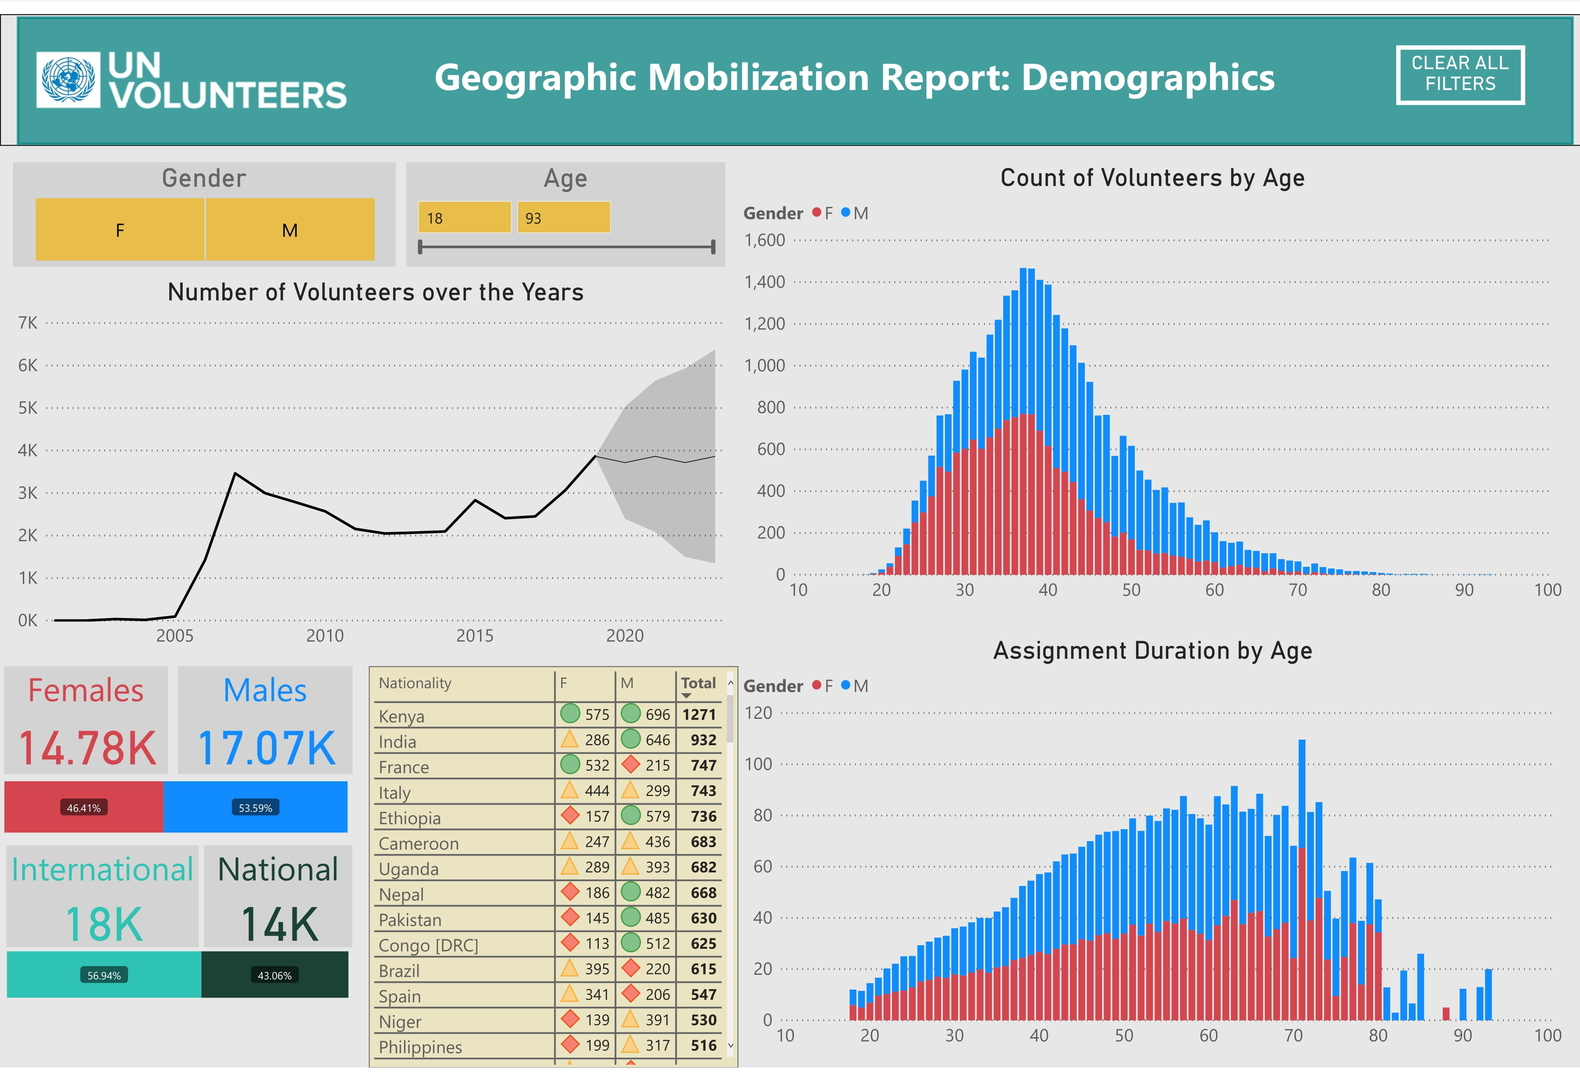

The dashboard page shown, as its layout file describes it:
{"tool":"powerbi","page":{"name":"Demographics","canvas":[1800,1200],"ordinal":1},"visuals":[{"type":"slicer","title":"Gender","fields":{"Values":["UN_Volunteer_Data.Gender"]},"box":[14.8,168.9,435.6,118.5],"z":0},{"type":"basicShape","box":[0,0,1810.4,149.6],"z":1000},{"type":"actionButton","box":[1591.1,35.6,146.7,68.1],"z":2000},{"type":"image","box":[32.8,0,369.3,149.4],"z":3000},{"type":"textbox","box":[490.4,35.6,989.6,96.3],"z":4000},{"type":"slicer","title":"Age","fields":{"Values":["UN_Volunteer_Data.Age"]},"box":[463.7,168.9,363,118.5],"z":5000},{"type":"lineChart","title":"Number of Volunteers over the Years","fields":{"Category":["Dates.Date.Variation.Date Hierarchy.Year"],"Y":["Measures List.Volunteer Count"]},"box":[14.8,299.3,826.7,432.6],"z":6000},{"type":"card","title":"Females","fields":{"Values":["Measures List.Female Count"]},"box":[4.4,742.2,186.7,123],"z":7000},{"type":"card","title":"Males","fields":{"Values":["Measures List.Male Count"]},"box":[203,742.2,198.5,123],"z":8000},{"type":"hundredPercentStackedBarChart","fields":{"Y":["Measures List.Volunteer Count"],"Series":["UN_Volunteer_Data.Gender"]},"box":[0,782.2,401.5,237],"z":9000},{"type":"card","title":"National","fields":{"Values":["Measures List.National"]},"box":[232.6,946.7,168.9,115.6],"z":10000},{"type":"card","title":"International","fields":{"Values":["Measures List.International"]},"box":[7.4,946.7,219.3,115.6],"z":11000},{"type":"hundredPercentStackedBarChart","fields":{"Y":["Measures List.Volunteer Count"],"Series":["UN_Volunteer_Data.Assignment Type"]},"box":[3,983.7,398.5,216.3],"z":12000},{"type":"columnChart","title":"Count of Volunteers by Age","fields":{"Category":["UN_Volunteer_Data.Age"],"Series":["UN_Volunteer_Data.Gender"],"Y":["Count(UN_Volunteer_Data.Volunteer Id)"]},"box":[841.5,168.9,943.7,511.1],"z":13000},{"type":"columnChart","title":"Assignment Duration by Age","fields":{"Category":["UN_Volunteer_Data.Age"],"Series":["UN_Volunteer_Data.Gender"],"Y":["Avg(UN_Volunteer_Data.Assignment Duration)"]},"box":[841.5,706.7,943.7,480],"z":14000},{"type":"pivotTable","fields":{"Rows":["UN_Volunteer_Data.Nationality"],"Values":["Measures List.Volunteer Count"],"Columns":["UN_Volunteer_Data.Gender"]},"box":[420.7,742.2,420.7,457.8],"z":15000}]}

Visuals, with their boxes in screenshot pixels (x1, y1, x2, y2), scaled from the page's 1800x1200 canvas onto the 1580x1080 screenshot:
"Gender" slicer: x1=13, y1=152, x2=395, y2=259
basicShape: x1=0, y1=0, x2=1579, y2=135
actionButton: x1=1397, y1=32, x2=1525, y2=93
image: x1=29, y1=0, x2=353, y2=134
textbox: x1=430, y1=32, x2=1299, y2=119
"Age" slicer: x1=407, y1=152, x2=726, y2=259
"Number of Volunteers over the Years" lineChart: x1=13, y1=269, x2=739, y2=659
"Females" card: x1=4, y1=668, x2=168, y2=779
"Males" card: x1=178, y1=668, x2=352, y2=779
hundredPercentStackedBarChart - Measures List.Volunteer Count x UN_Volunteer_Data.Gender: x1=0, y1=704, x2=352, y2=917
"National" card: x1=204, y1=852, x2=352, y2=956
"International" card: x1=6, y1=852, x2=199, y2=956
hundredPercentStackedBarChart - Measures List.Volunteer Count x UN_Volunteer_Data.Assignment Type: x1=3, y1=885, x2=352, y2=1079
"Count of Volunteers by Age" columnChart: x1=739, y1=152, x2=1567, y2=612
"Assignment Duration by Age" columnChart: x1=739, y1=636, x2=1567, y2=1068
pivotTable - UN_Volunteer_Data.Nationality x Measures List.Volunteer Count: x1=369, y1=668, x2=739, y2=1079
